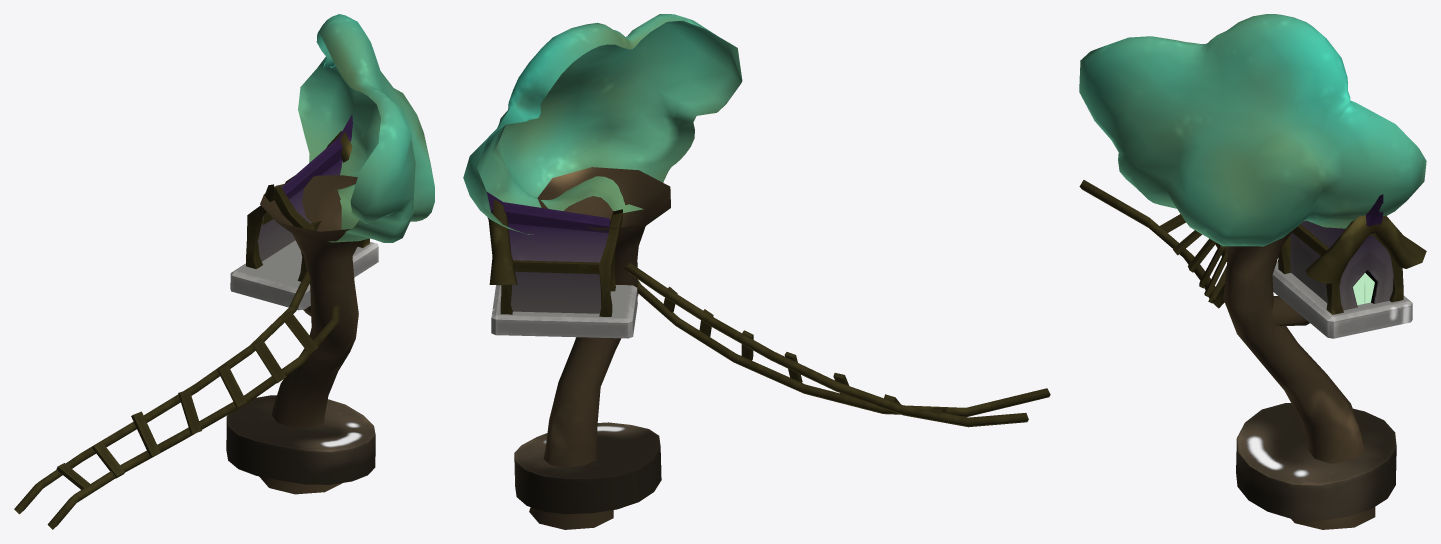
File: modul_garden_3.fbx
3 views of the same model, side by side, from view 1: azimuth 30°, elevation 25°; view 2: azimuth 150°, elevation 25°; view 3: azimuth 270°, elevation 25° (orthographic). The views are drawn at different scales.
Parts seen in each view (by area): view 1: modul_garden_3; view 2: modul_garden_3; view 3: modul_garden_3.
Boxes of the visible parts, x1,y1,x2,y2 form: modul_garden_3: (14, 14, 434, 529); modul_garden_3: (463, 14, 1050, 529); modul_garden_3: (1079, 14, 1426, 529).
Size of the model in its own units: 2371 by 2278 by 1431.
1 material, 1 textured.
